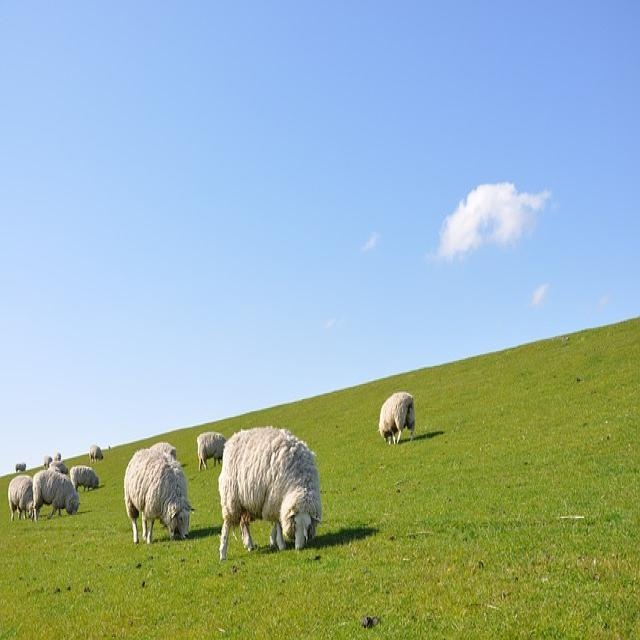goat: (219, 427, 321, 558), (124, 448, 191, 543), (32, 471, 80, 520), (379, 392, 414, 442), (8, 476, 34, 520), (198, 431, 226, 470), (70, 467, 99, 490), (89, 444, 104, 462)
